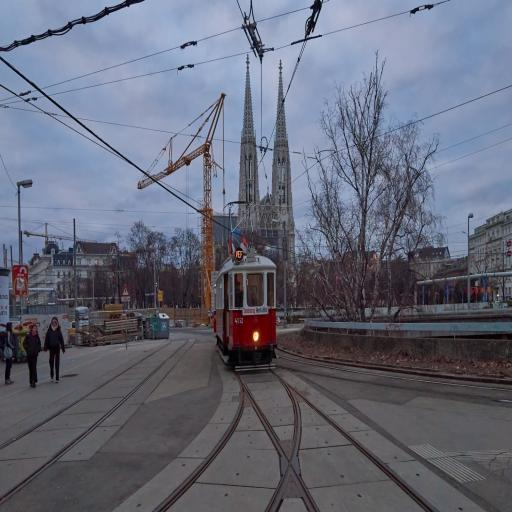E2-Tram: (216, 250, 278, 361)
